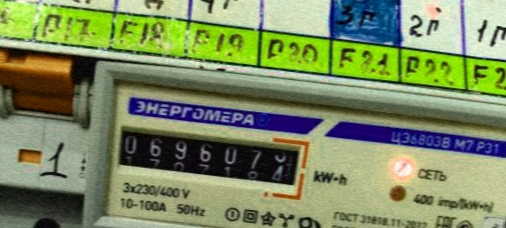0: (221, 142, 239, 166), (122, 132, 138, 155)
4: (269, 161, 285, 184)
6: (147, 134, 163, 157), (197, 141, 213, 162)
7: (246, 147, 264, 170)
9: (172, 138, 187, 160)
screen: (102, 113, 314, 198)
